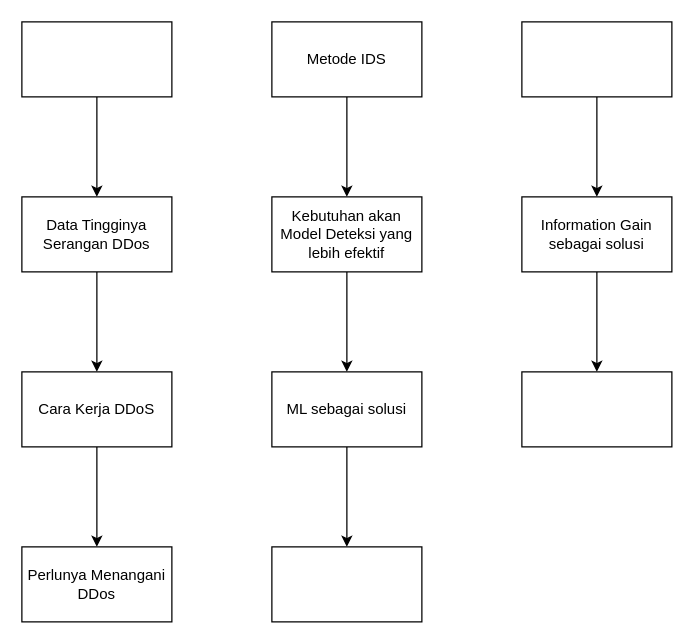
Image size: 694x644. Some labels were removed from this diagram. Each missing label, with the box of its shape:
Kelemahan ANN pada feature selection: (521, 21, 672, 97)
Penelitian dengan model model ML terdahulu: (271, 546, 422, 622)
Penerapan IG untuk mengatasi serangan DDoS: (521, 371, 672, 447)
Thesis DDos Ancaman: (21, 21, 172, 97)
